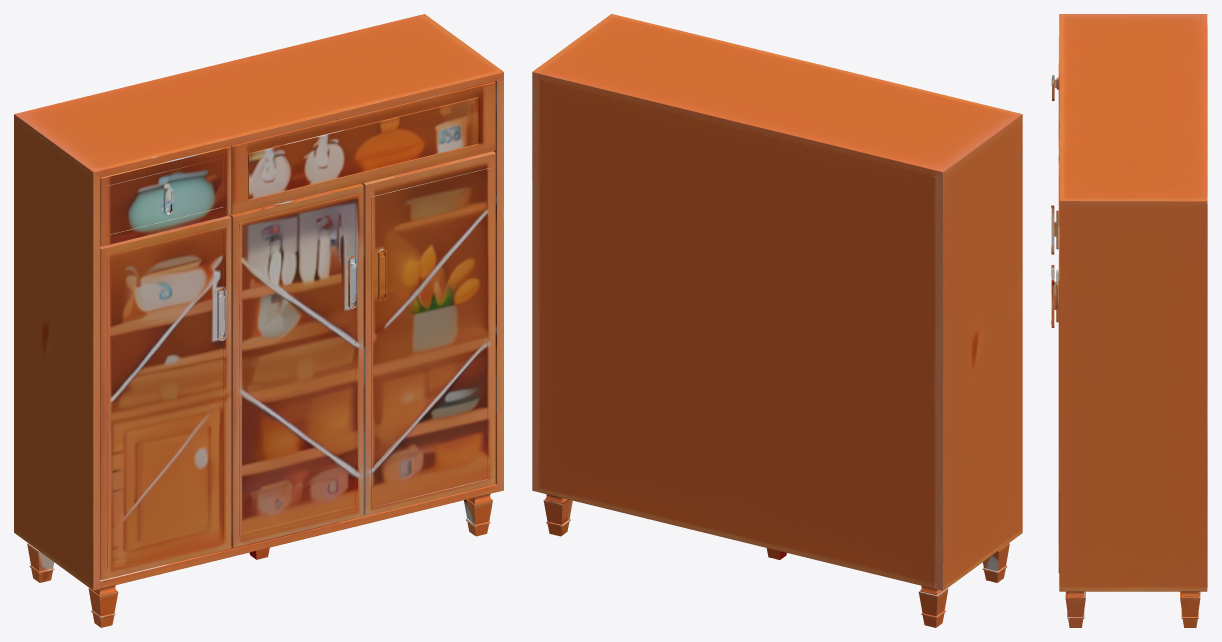
File: edited_mesh.glb
3 views of the same model, side by side, from view 1: azimuth 30°, elevation 25°; view 2: azimuth 150°, elevation 25°; view 3: azimuth 270°, elevation 25° (orthographic). The views are drawn at different scales.
Parts seen in each view (by area): view 1: solid_001_wire; view 2: solid_001_wire; view 3: solid_001_wire.
Boxes of the visible parts, x1,y1,x2,y2 form: solid_001_wire: (14, 14, 503, 627); solid_001_wire: (532, 14, 1022, 627); solid_001_wire: (1051, 14, 1207, 627).
Bounding box in the file's own units: 1.27 × 1.37 × 0.4471.
1 material, 1 textured.
